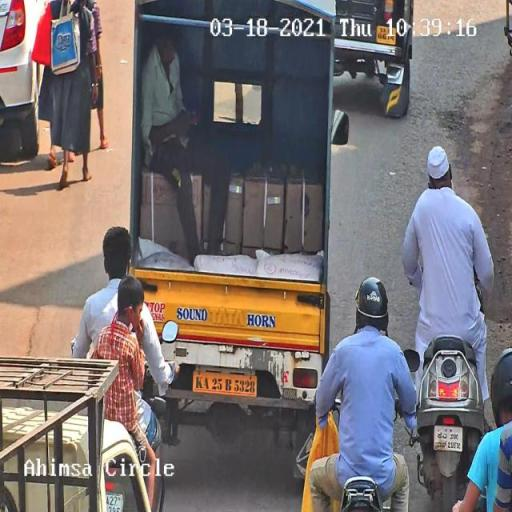using mobile: (425, 176, 437, 192)
